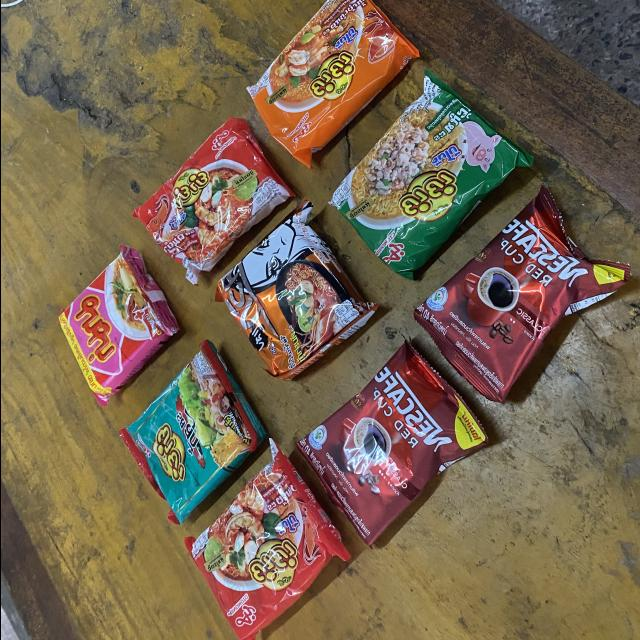plastik: (414, 187, 630, 403), (329, 70, 532, 279), (297, 341, 487, 545), (184, 440, 349, 640), (214, 202, 378, 380), (247, 0, 418, 167), (119, 341, 266, 525), (132, 117, 293, 283), (57, 245, 178, 405)
